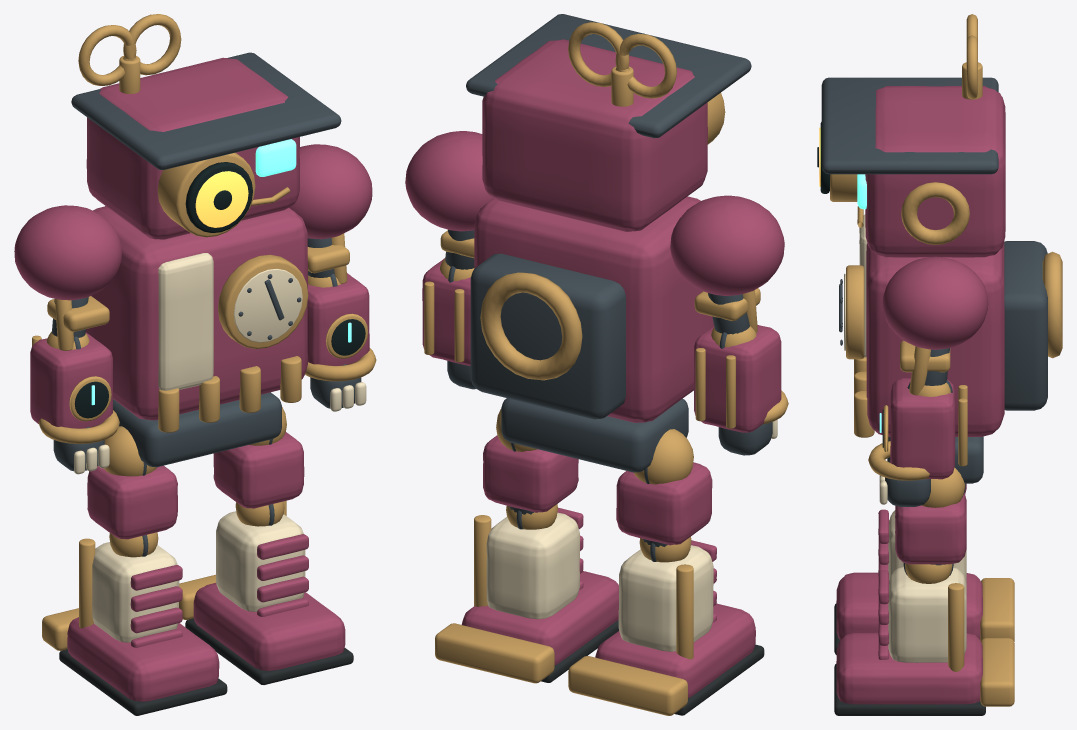
The model's file is clockwork_gunner.t2.glb.
3 renders of one model, left to right at view 1: azimuth 30°, elevation 25°; view 2: azimuth 150°, elevation 25°; view 3: azimuth 270°, elevation 25°, orthographic. The views are drawn at different scales.
Visible parts, largest first — view 1: slot_torso__clay_clockwork_wine__clay, slot_legL__clay_clockwork_wine__clay, slot_head__clay_clockwork_wine__clay, slot_legR__clay_clockwork_wine__clay, slot_head__forged_bluelead_steel__protected, slot_armL__clay_clockwork_wine__clay, slot_torso__clay_warm_ivory__clay, slot_torso__forged_bluelead_steel__protected, slot_head__worn_warm_brass__protected, slot_torso__worn_warm_brass__protected, slot_armR__clay_clockwork_wine__clay, armL_elbow__clay_clockwork_wine__clay (+21 smaller); view 2: slot_head__clay_clockwork_wine__clay, slot_torso__forged_bluelead_steel__protected, slot_torso__clay_clockwork_wine__clay, slot_legL__clay_clockwork_wine__clay, slot_legR__clay_clockwork_wine__clay, slot_legL__worn_warm_brass__protected, slot_armL__clay_clockwork_wine__clay, slot_legR__clay_warm_ivory__clay, slot_head__forged_bluelead_steel__protected, slot_legR__worn_warm_brass__protected, slot_legL__clay_warm_ivory__clay, slot_armR__clay_clockwork_wine__clay (+13 smaller); view 3: slot_head__clay_clockwork_wine__clay, slot_legR__clay_clockwork_wine__clay, slot_torso__clay_clockwork_wine__clay, slot_head__forged_bluelead_steel__protected, slot_torso__forged_bluelead_steel__protected, slot_armR__clay_clockwork_wine__clay, slot_legR__worn_warm_brass__protected, slot_legR__clay_warm_ivory__clay, armR_elbow__clay_clockwork_wine__clay, slot_head__worn_warm_brass__protected, slot_torso__worn_warm_brass__protected, slot_legL__clay_clockwork_wine__clay (+8 smaller).
Part boxes in pixels (left/top/right/bottom): slot_torso__clay_clockwork_wine__clay: left=85, top=206, right=307, bottom=420; slot_legL__clay_clockwork_wine__clay: left=67, top=465, right=219, bottom=701; slot_head__clay_clockwork_wine__clay: left=86, top=57, right=299, bottom=239; slot_legR__clay_clockwork_wine__clay: left=193, top=432, right=345, bottom=670; slot_head__forged_bluelead_steel__protected: left=71, top=52, right=341, bottom=169; slot_armL__clay_clockwork_wine__clay: left=14, top=205, right=121, bottom=300; slot_torso__clay_warm_ivory__clay: left=158, top=253, right=213, bottom=390; slot_torso__forged_bluelead_steel__protected: left=113, top=274, right=301, bottom=467; slot_head__worn_warm_brass__protected: left=78, top=14, right=290, bottom=237; slot_torso__worn_warm_brass__protected: left=105, top=206, right=308, bottom=432; slot_armR__clay_clockwork_wine__clay: left=289, top=144, right=372, bottom=239; armL_elbow__clay_clockwork_wine__clay: left=30, top=332, right=112, bottom=428; slot_head__clay_clockwork_wine__clay: left=482, top=39, right=707, bottom=231; slot_torso__forged_bluelead_steel__protected: left=470, top=253, right=688, bottom=472; slot_torso__clay_clockwork_wine__clay: left=474, top=196, right=713, bottom=422; slot_legL__clay_clockwork_wine__clay: left=595, top=462, right=755, bottom=697; slot_legR__clay_clockwork_wine__clay: left=461, top=435, right=618, bottom=665; slot_legL__worn_warm_brass__protected: left=568, top=429, right=693, bottom=715; slot_armL__clay_clockwork_wine__clay: left=670, top=195, right=784, bottom=295; slot_legR__clay_warm_ivory__clay: left=486, top=512, right=579, bottom=619; slot_head__forged_bluelead_steel__protected: left=466, top=14, right=751, bottom=138; slot_legR__worn_warm_brass__protected: left=435, top=409, right=557, bottom=683; slot_legL__clay_warm_ivory__clay: left=618, top=545, right=713, bottom=651; slot_armR__clay_clockwork_wine__clay: left=405, top=131, right=493, bottom=231; slot_head__clay_clockwork_wine__clay: left=865, top=86, right=1005, bottom=257; slot_legR__clay_clockwork_wine__clay: left=836, top=493, right=982, bottom=704; slot_torso__clay_clockwork_wine__clay: left=866, top=242, right=1004, bottom=436; slot_head__forged_bluelead_steel__protected: left=821, top=77, right=998, bottom=174; slot_torso__forged_bluelead_steel__protected: left=839, top=241, right=1047, bottom=483; slot_armR__clay_clockwork_wine__clay: left=882, top=256, right=988, bottom=349; slot_legR__worn_warm_brass__protected: left=905, top=467, right=1014, bottom=706; slot_legR__clay_warm_ivory__clay: left=888, top=566, right=966, bottom=662; armR_elbow__clay_clockwork_wine__clay: left=890, top=378, right=955, bottom=479; slot_head__worn_warm_brass__protected: left=830, top=14, right=982, bottom=244; slot_torso__worn_warm_brass__protected: left=846, top=251, right=1062, bottom=437; slot_legL__clay_clockwork_wine__clay: left=836, top=483, right=982, bottom=640.
Size of the model in its own units: 1.52 by 2.66 by 0.9603.
